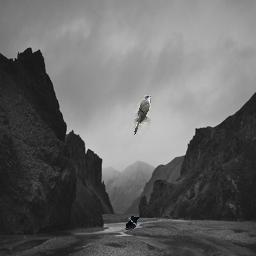Crow: (124, 216, 139, 230)
Cuckoo: (134, 95, 151, 135)
